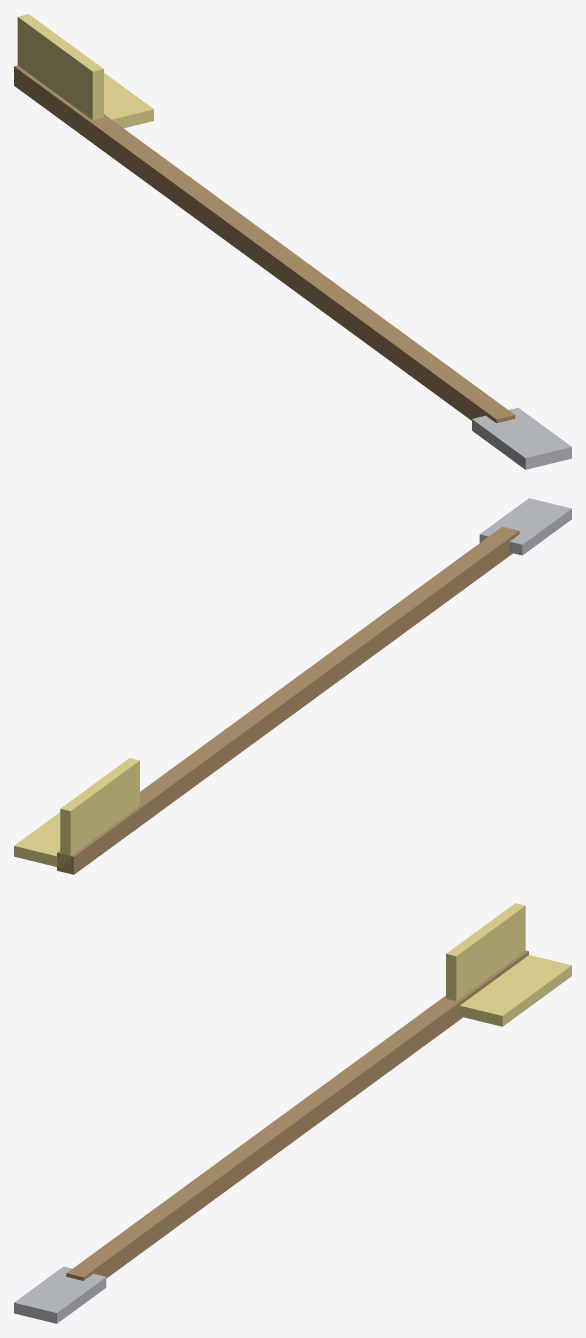
Rendered from arrow.glb.
3 views of the same model, one above another, from view 1: azimuth 30°, elevation 25°; view 2: azimuth 150°, elevation 25°; view 3: azimuth 330°, elevation 25° (orthographic). The views are drawn at different scales.
Visible parts, largest first — view 1: Arrow; view 2: Arrow; view 3: Arrow.
Boxes of the visible parts, x1,y1,x2,y2 form: Arrow: (14,14,571,469); Arrow: (14,498,571,874); Arrow: (14,903,571,1323).
Size of the model in its own units: 0.085 by 0.07 by 0.98.
